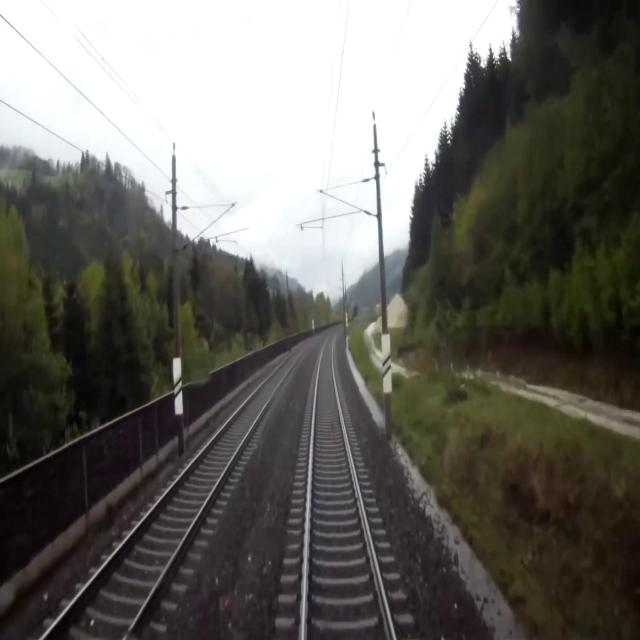rail-track: (45, 345, 306, 639), (306, 337, 391, 639)
